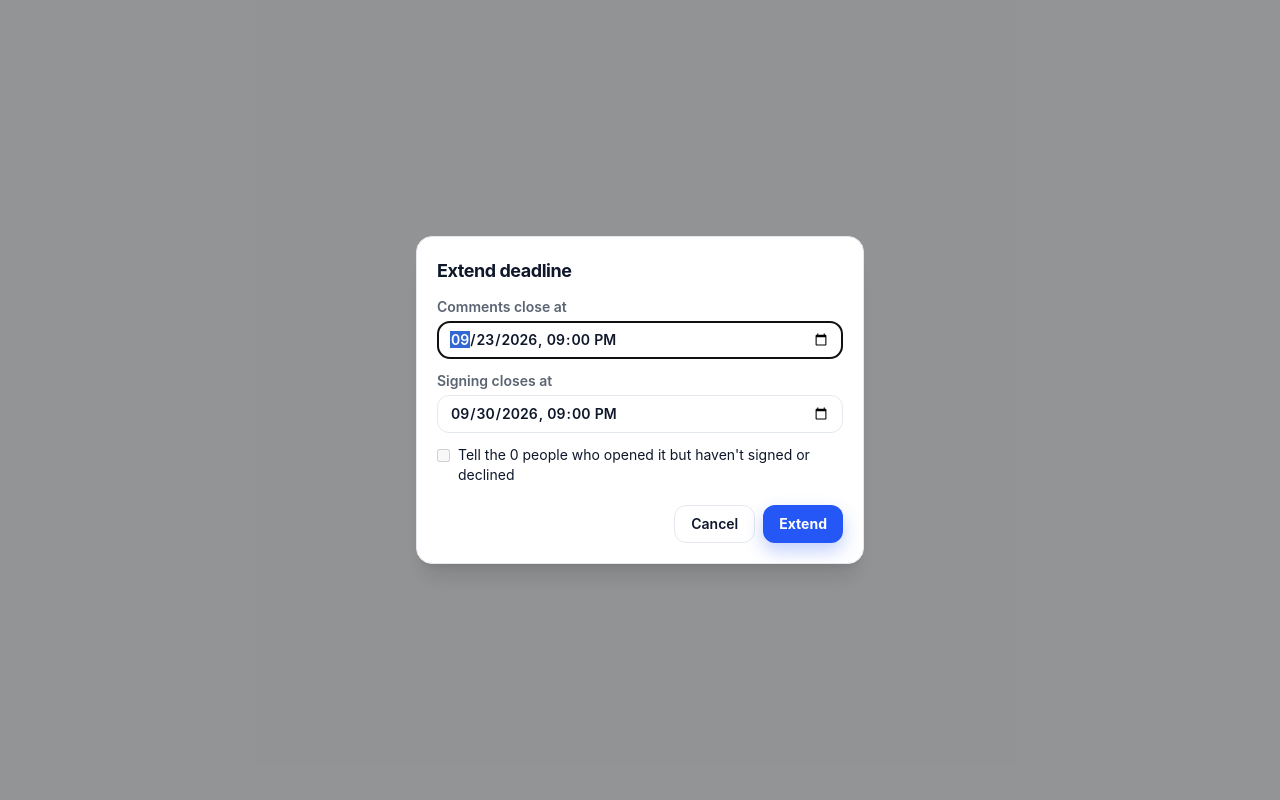
Test: ExtendDeadlineDialog › shows the resulting commit on success
Step 1. Click the button "Extend" → (803, 524), box [763,505,843,543]
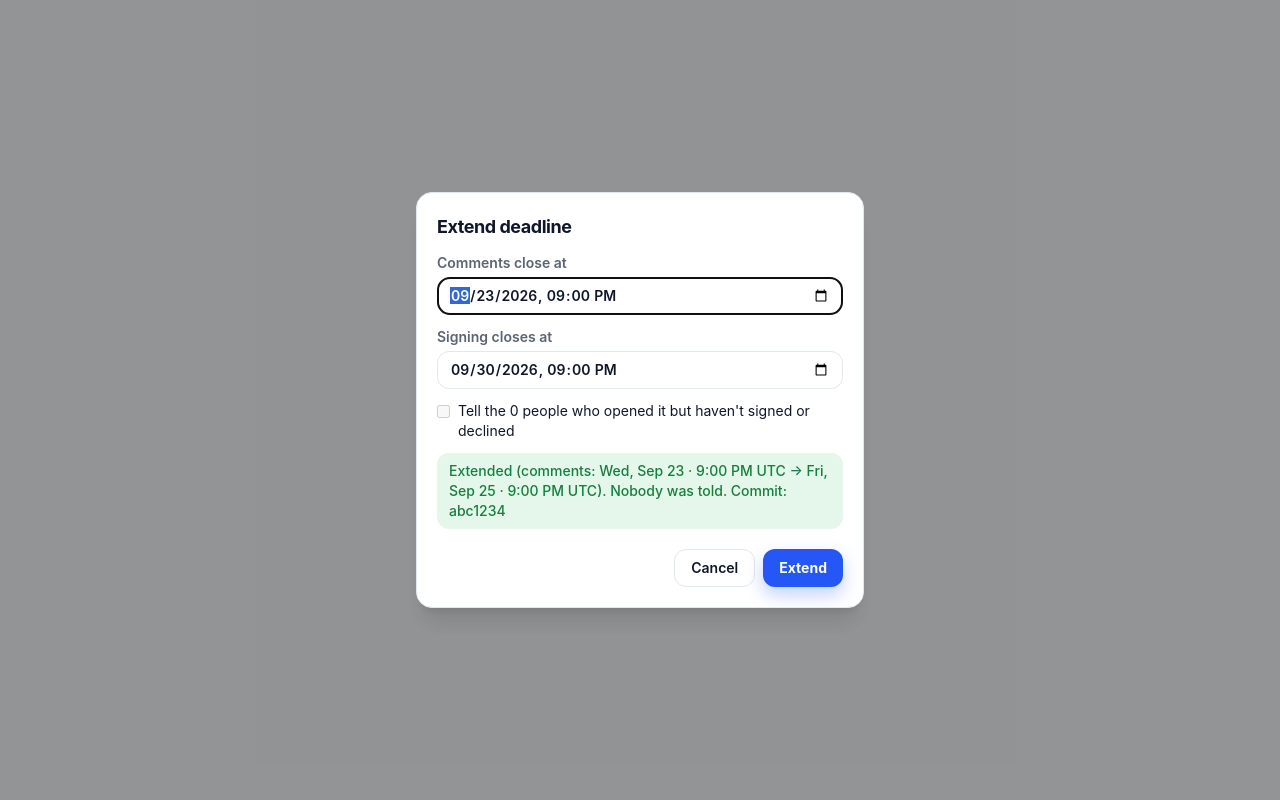
Expected: the message shows "abc1234", [449,462,828,519]
